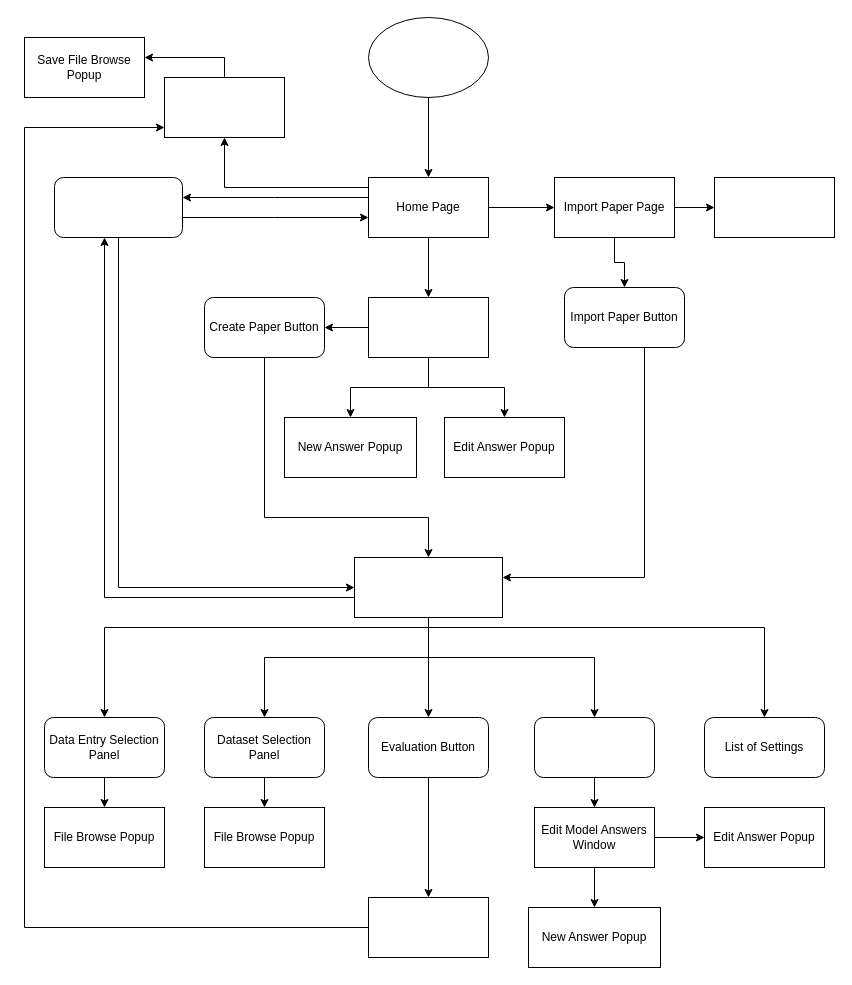
Image size: 852x985. Some labels were removed from this diagram. Here are the shapes that lost their labels. From the top down, the centre of each, then its label:
(428,57): Start
(224,107): SQL Editor
(118,207): List of Saved Papers
(774,207): File Browser Popup
(428,327): Create Paper Page
(428,587): GUI MCMAS Workspace
(594,747): Model Answer Preview Panel
(428,927): Results Window
